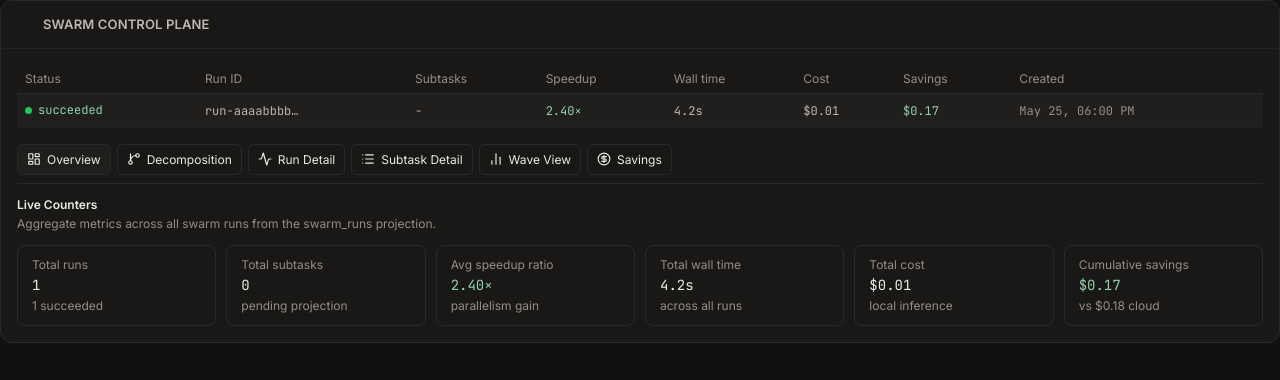
Scenario: SwarmControlPlane › handles runs with zero subtask_count gracefully
The image size is (1280, 380).
Click the tab "Decomposition" at [179, 159], box [117, 144, 242, 175]
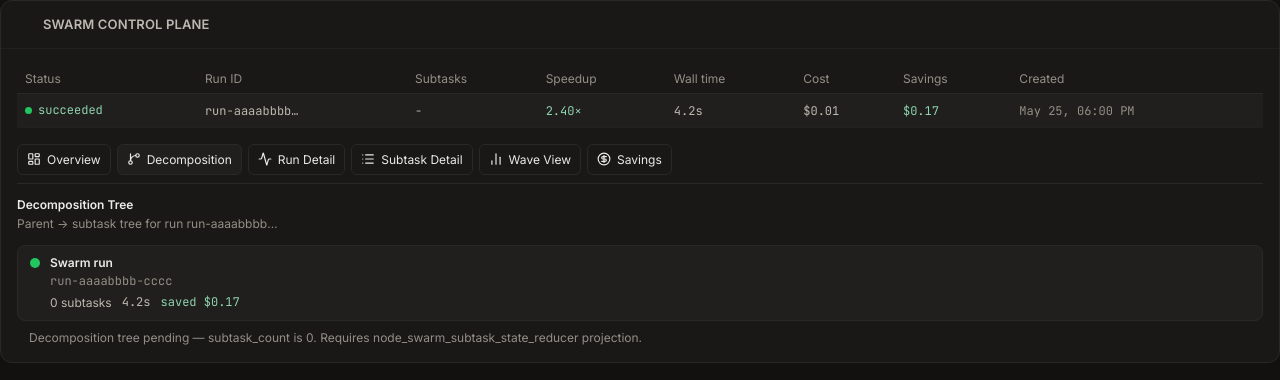
Check: the text "Decomposition tree pending" is shown, box [29, 330, 642, 345]
